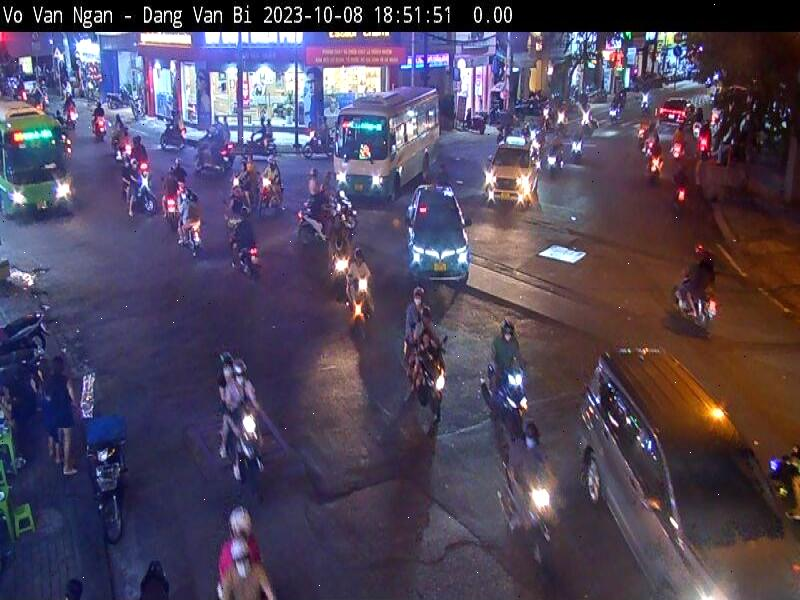bus: (330, 82, 443, 208), (0, 91, 75, 222)
car: (402, 182, 472, 284), (483, 133, 541, 212), (659, 90, 692, 133)
motorcycle: (490, 476, 569, 582), (87, 442, 137, 542), (401, 347, 459, 424), (220, 414, 271, 498), (485, 348, 532, 428), (659, 280, 720, 336), (340, 281, 384, 334), (229, 222, 262, 276), (310, 246, 354, 286), (172, 210, 207, 253)
